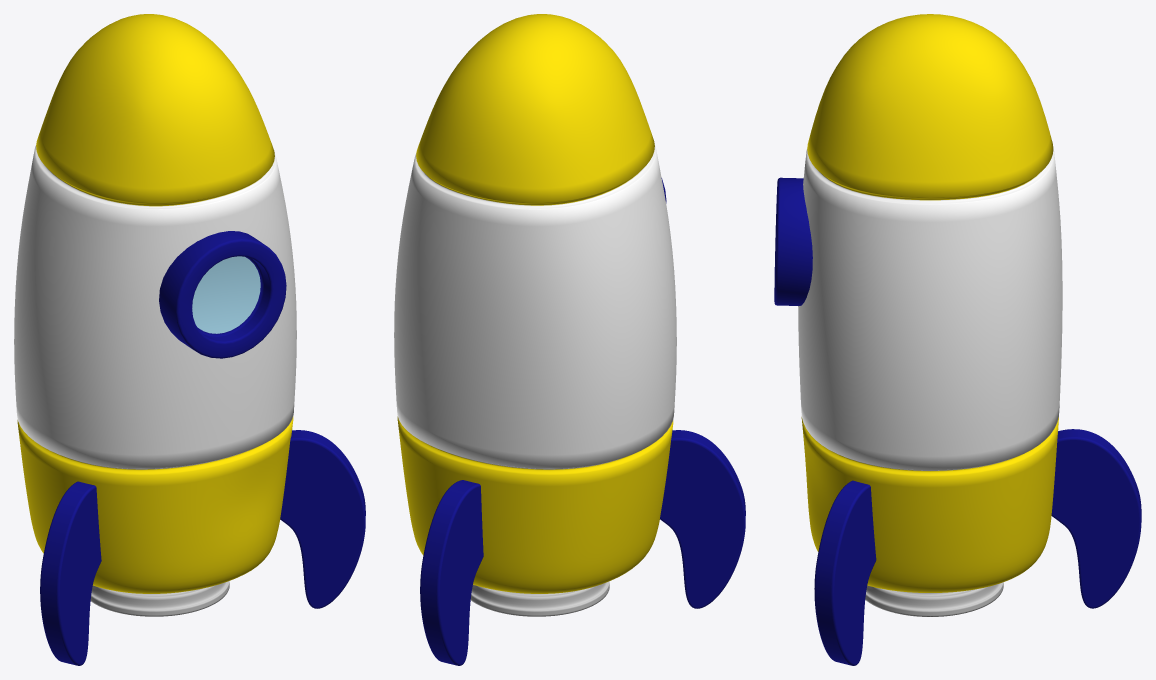
The model's file is rocket1.gltf.
The picture shows the model from 3 angles, left to right: view 1: azimuth 30°, elevation 25°; view 2: azimuth 150°, elevation 25°; view 3: azimuth 270°, elevation 25°; orthographic projection.
Visible parts, largest first — view 1: Cube, Cylinder, BezierCircle002, BezierCircle; view 2: Cube, BezierCircle, BezierCircle001; view 3: Cube, BezierCircle001, BezierCircle002, Cylinder.
Part boxes in pixels (x1,y1,x2,y2): Cube: (14, 14, 296, 616); Cylinder: (159, 231, 286, 358); BezierCircle002: (280, 430, 365, 608); BezierCircle: (40, 481, 101, 665); Cube: (394, 14, 676, 616); BezierCircle: (660, 430, 745, 608); BezierCircle001: (420, 480, 483, 665); Cube: (798, 14, 1062, 616); BezierCircle001: (1051, 429, 1141, 608); BezierCircle002: (814, 480, 876, 665); Cylinder: (774, 177, 812, 305).
Bounding box in the file's own units: 136 × 234 × 133.
